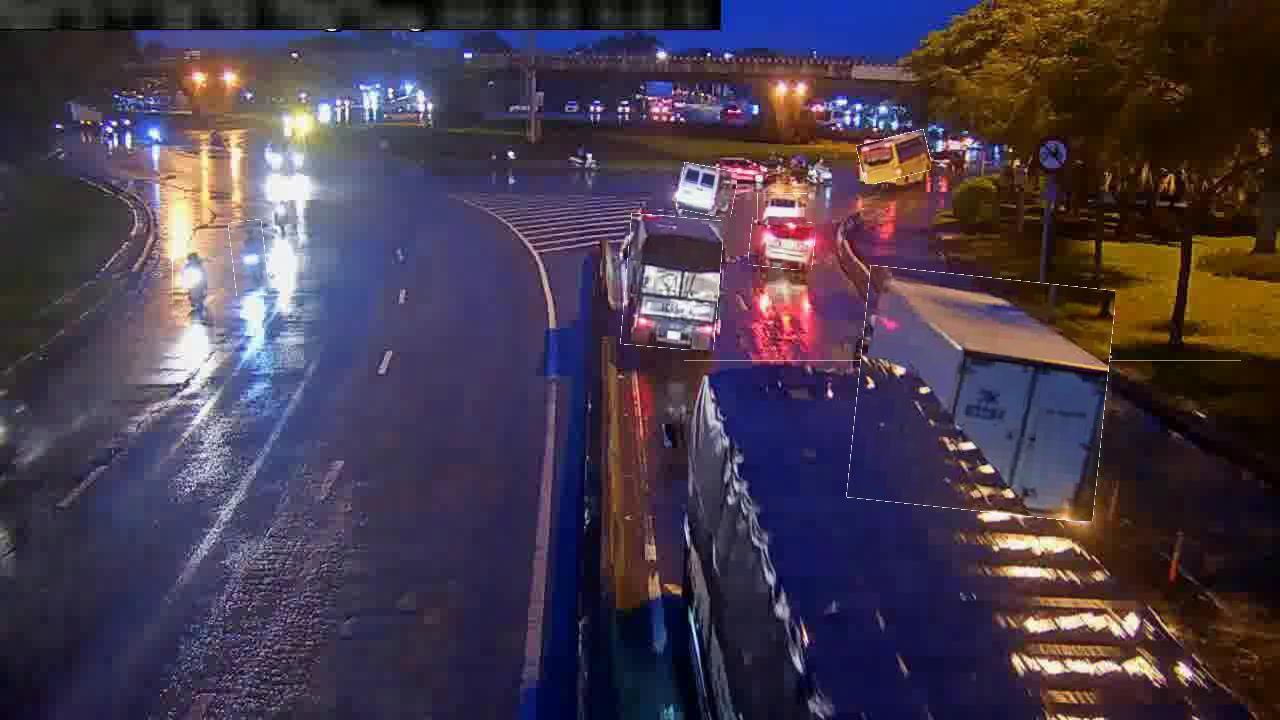14: (858, 133, 931, 182), (678, 165, 737, 216)
8: (684, 360, 1242, 719), (852, 271, 1111, 516), (623, 215, 722, 350)
container: (749, 219, 815, 270), (757, 193, 808, 226)
motorbike: (173, 241, 211, 321), (230, 220, 267, 297)
